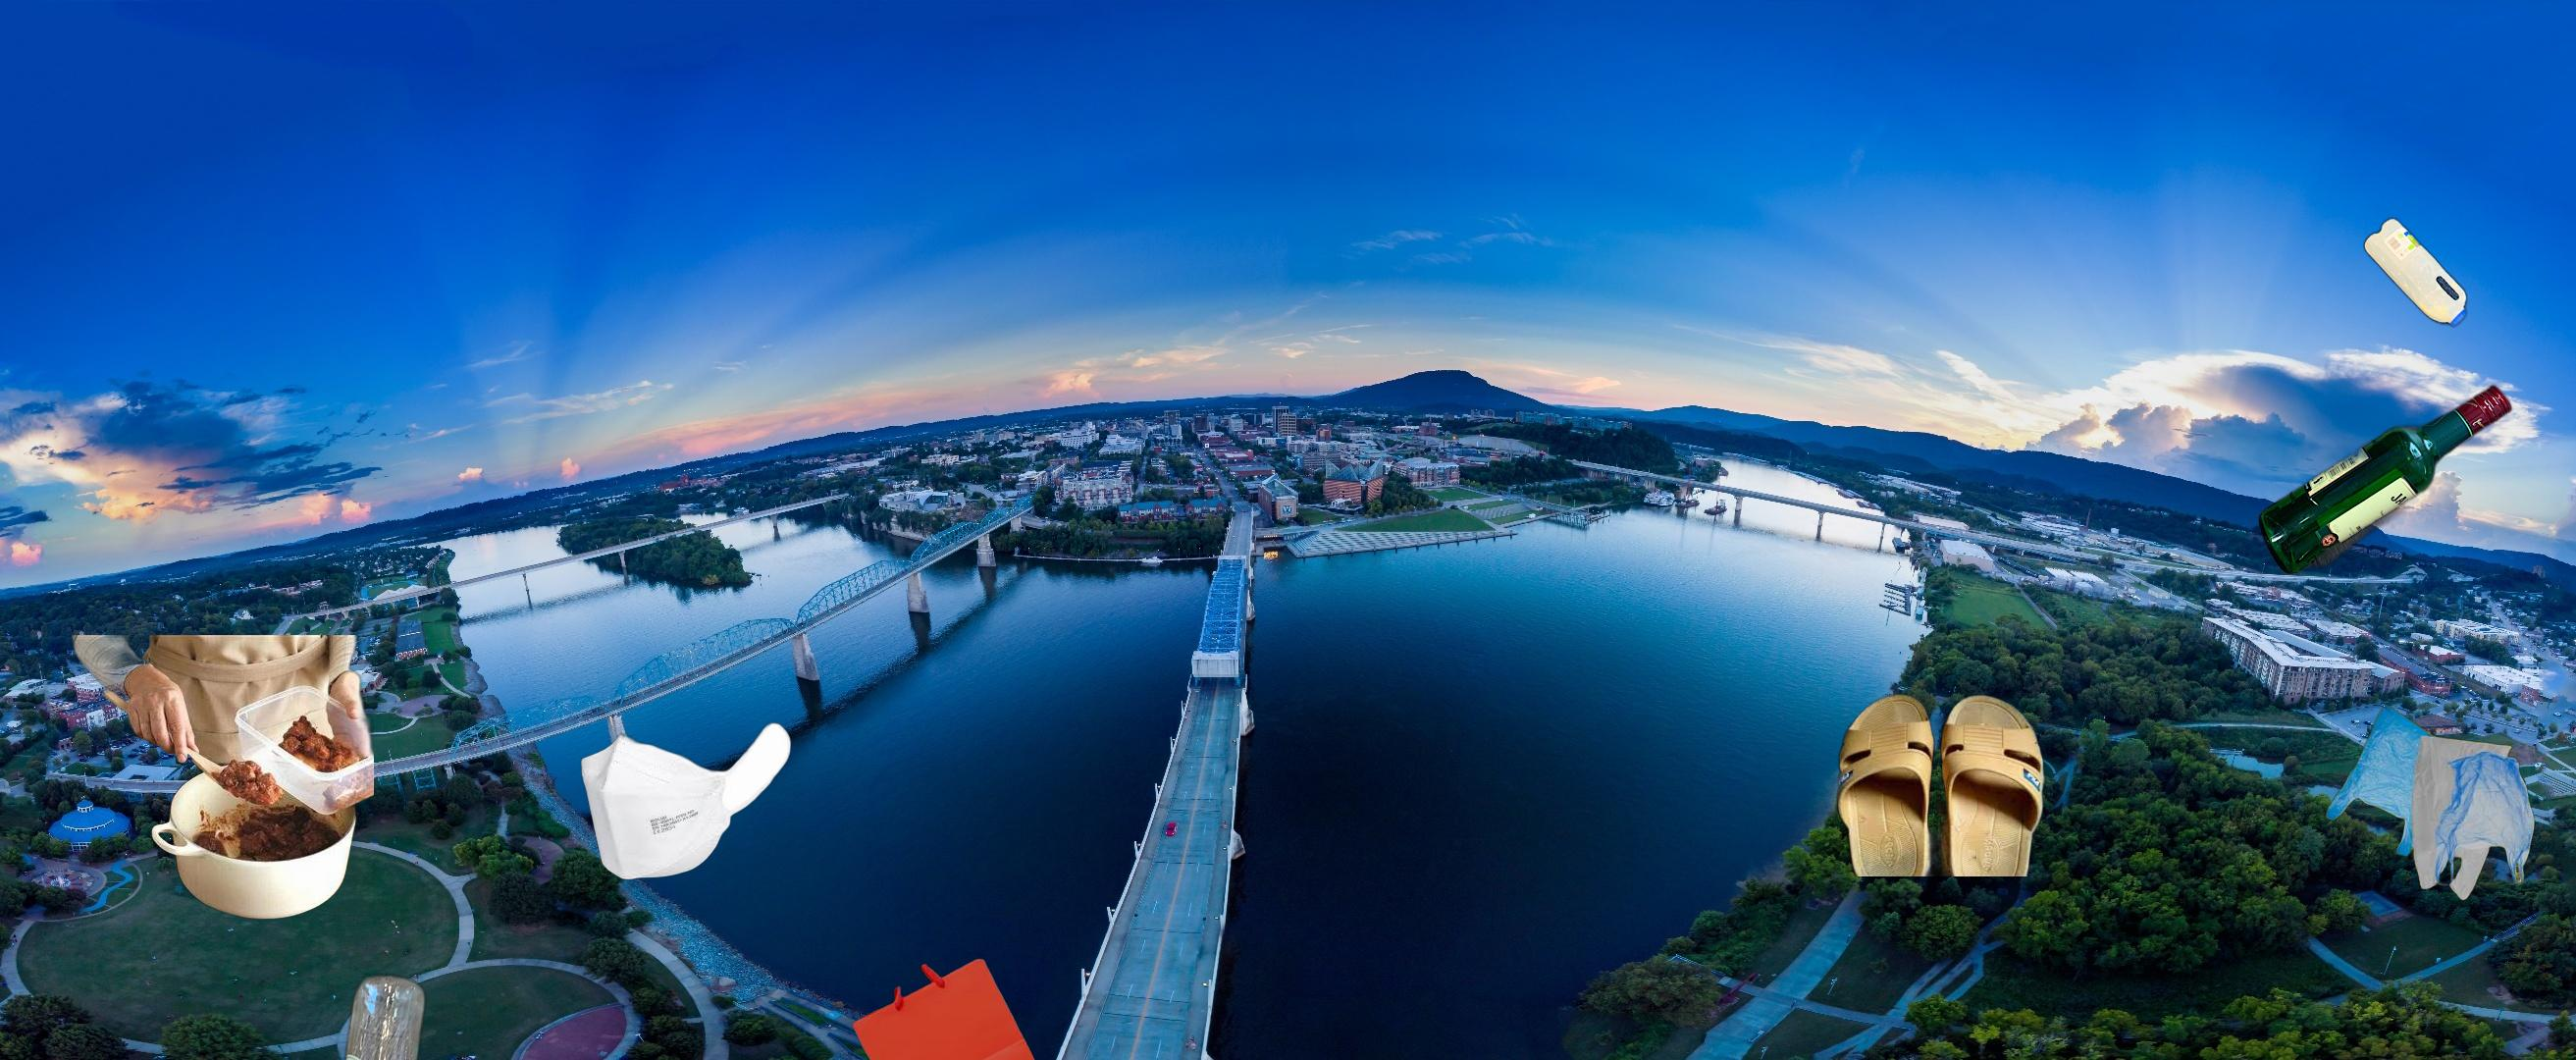biological: (66, 634, 375, 922)
glass: (2254, 380, 2517, 582), (332, 968, 430, 1060)
paper-bag: (849, 956, 1038, 1060)
plastic-bag: (2323, 703, 2537, 902)
plastic-bottles: (2359, 212, 2472, 332)
shoes: (1819, 690, 2049, 876)
trash: (578, 720, 793, 883)
